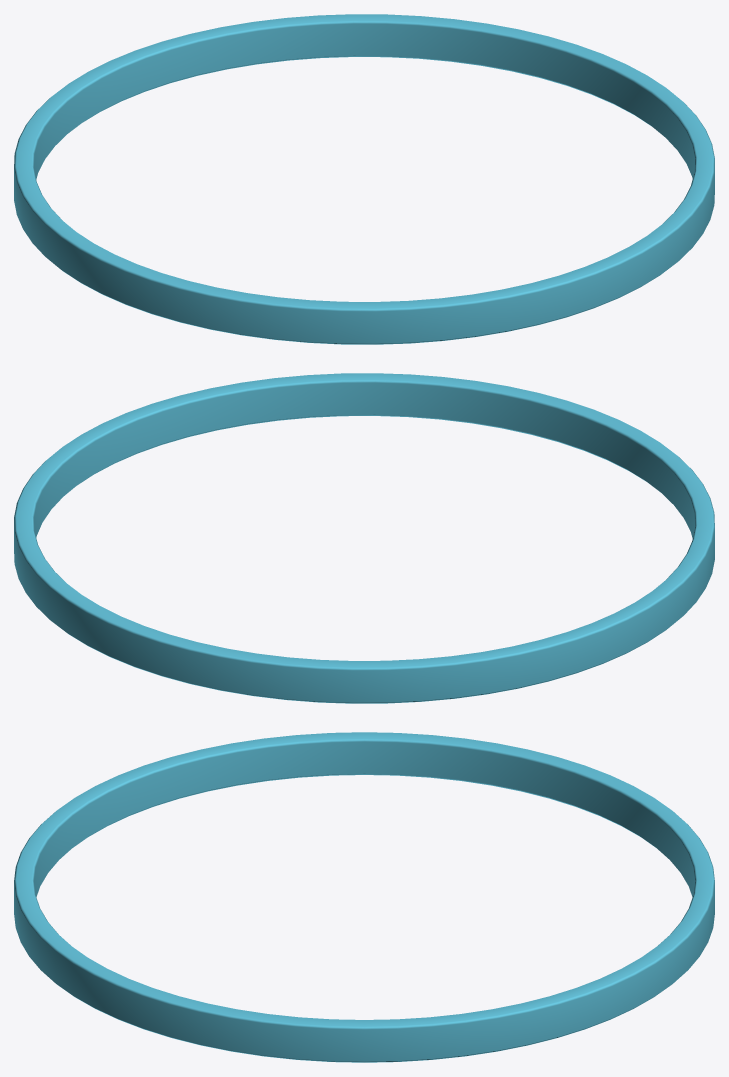
3 renders of one model, top to bottom at view 1: azimuth 30°, elevation 25°; view 2: azimuth 150°, elevation 25°; view 3: azimuth 270°, elevation 25°, orthographic.
Parts seen in each view (by area): view 1: seal_body; view 2: seal_body; view 3: seal_body.
Part boxes in pixels (left/top/right/bottom): seal_body: left=14, top=14, right=714, bottom=344; seal_body: left=14, top=373, right=714, bottom=703; seal_body: left=14, top=732, right=714, bottom=1062.
Size of the model in its own units: 0.14 by 0.008 by 0.14.
